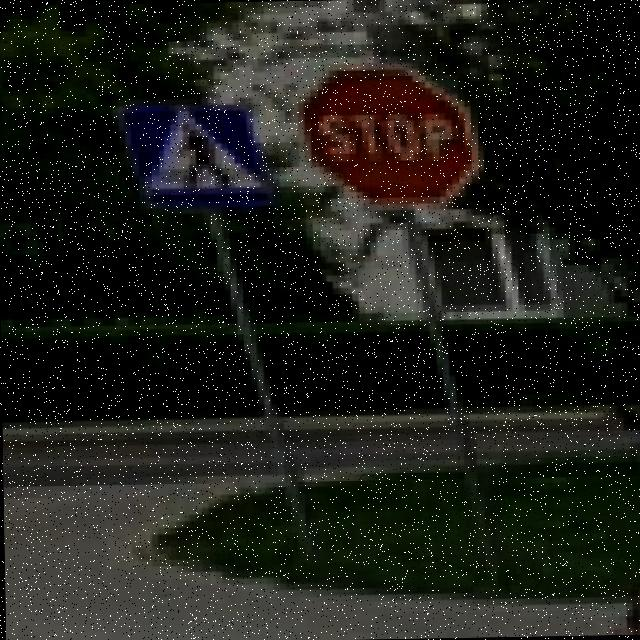Przejscie dla pieszych: (108, 97, 276, 215)
Stop: (294, 60, 488, 212)
